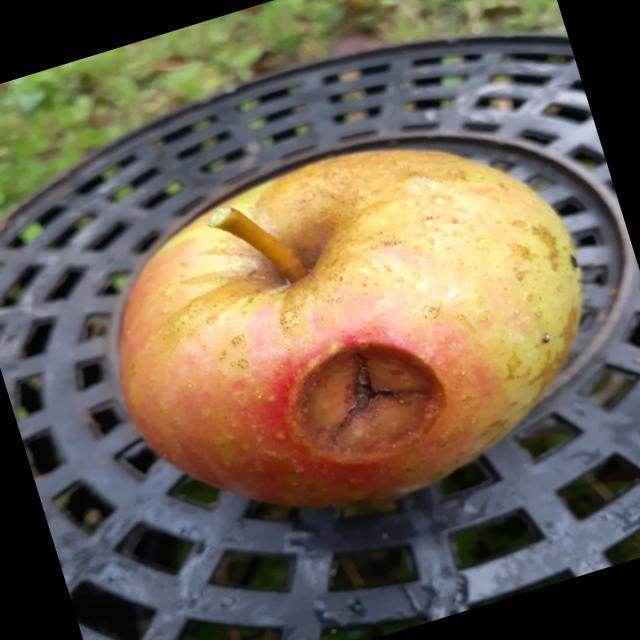rotten: (55, 78, 640, 575)
